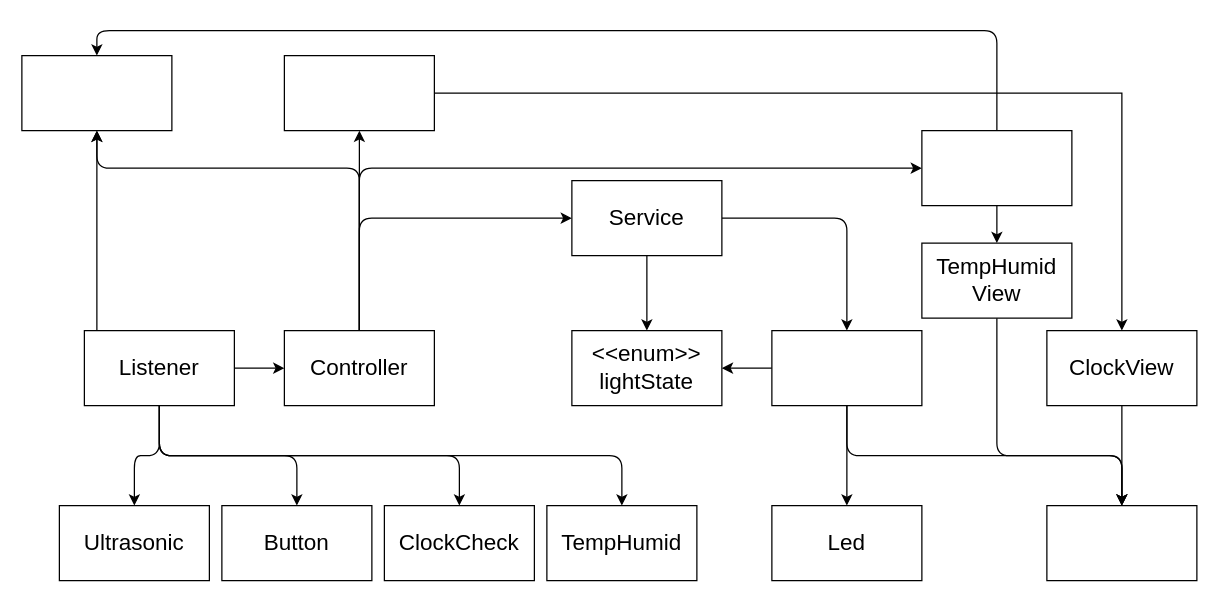
This 1219x603 diagram has some shape labels left out. Each missing label, with the box of its shape:
Clock Service: (283, 54, 434, 131)
DHT_Data: (21, 54, 172, 131)
LCD: (1046, 504, 1197, 581)
LightView: (771, 329, 922, 406)
TmepHumid Service: (921, 129, 1072, 206)
